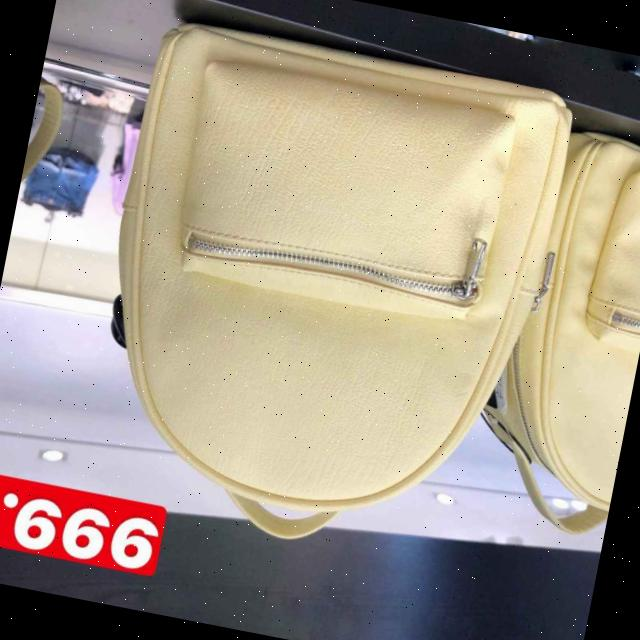Handbag: (59, 4, 588, 582)
